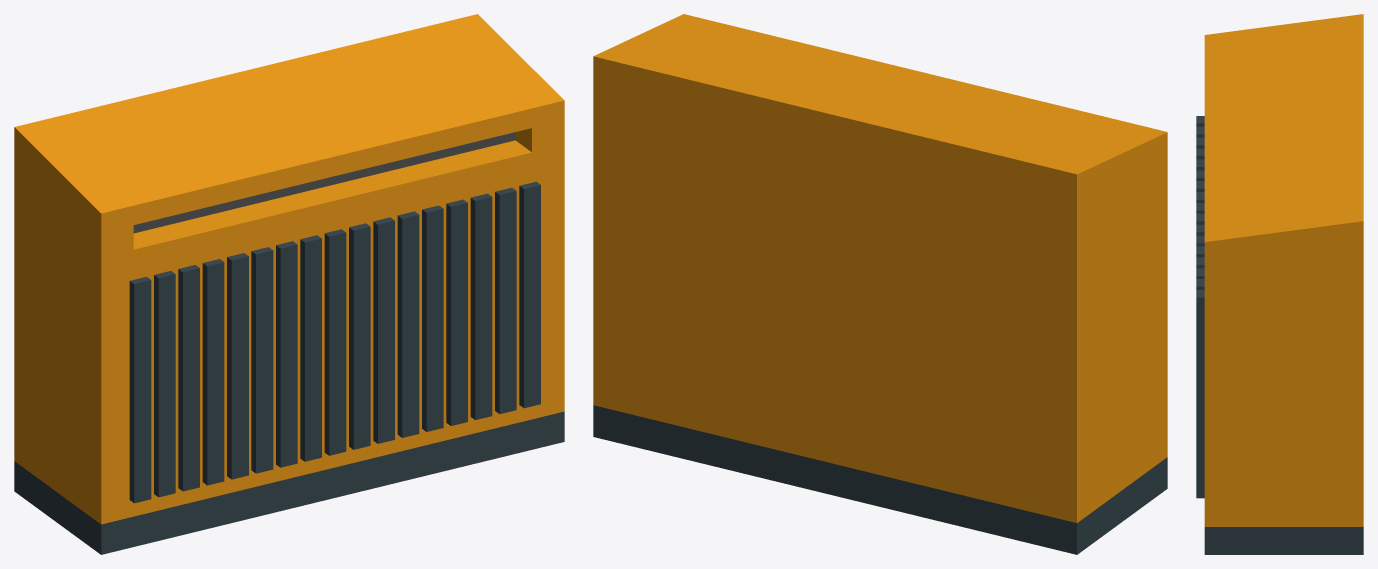
Rendered from Power_Station_04.fbx.
3 views of the same model, side by side, from view 1: azimuth 30°, elevation 25°; view 2: azimuth 150°, elevation 25°; view 3: azimuth 270°, elevation 25° (orthographic). The views are drawn at different scales.
Parts seen in each view (by area): view 1: Power_Station_04; view 2: Power_Station_04; view 3: Power_Station_04.
Boxes of the visible parts, x1,y1,x2,y2 form: Power_Station_04: (14,14,564,554); Power_Station_04: (593,14,1167,554); Power_Station_04: (1196,14,1363,554).
Size of the model in its own units: 266 by 200 by 91.09.
